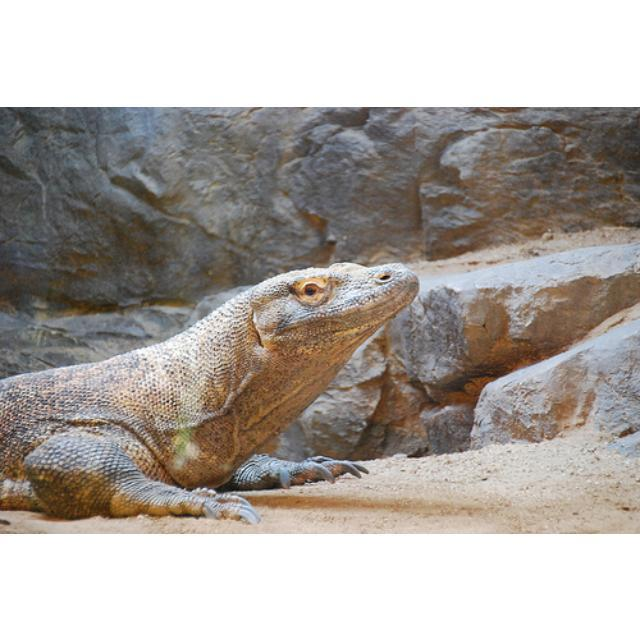KomodoDragon: (1, 256, 414, 522)
